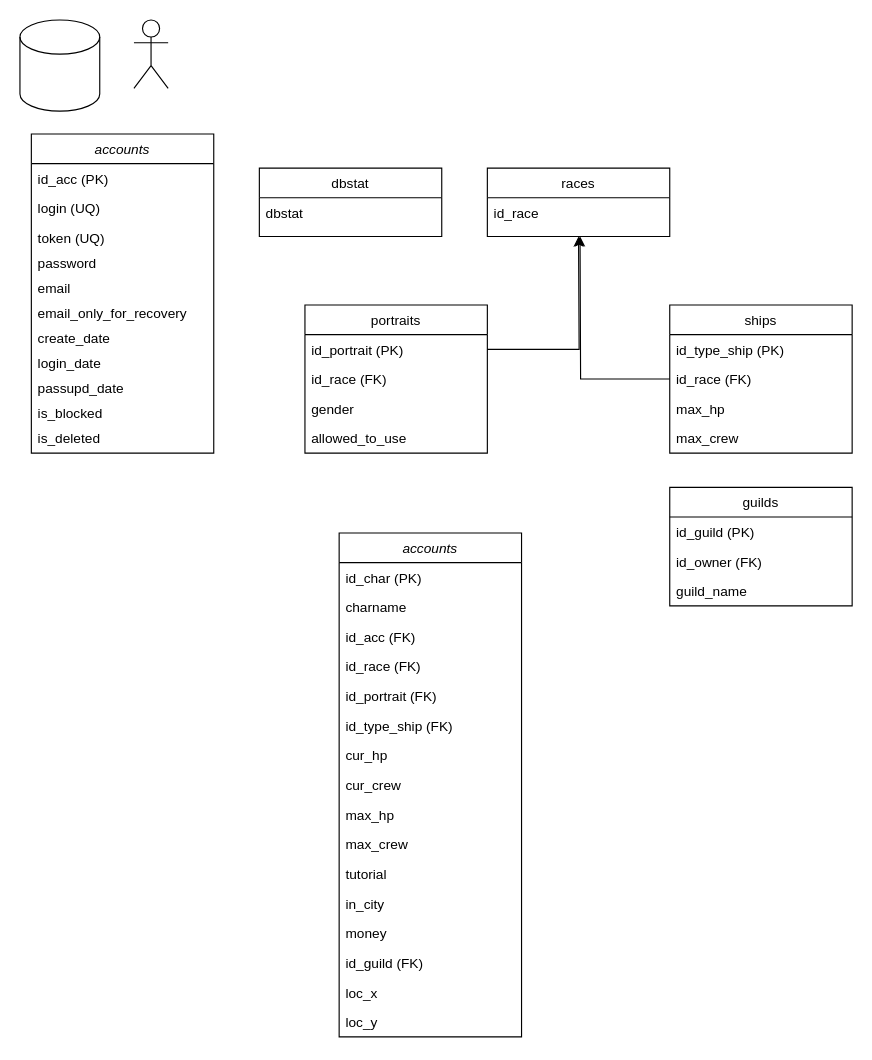
The diagram is 872 pixels wide and 1060 high, and some of its shapes have lost their labels. Each missing label, with the centre of its shape:
db: point (59, 65)
user: point (150, 53)
